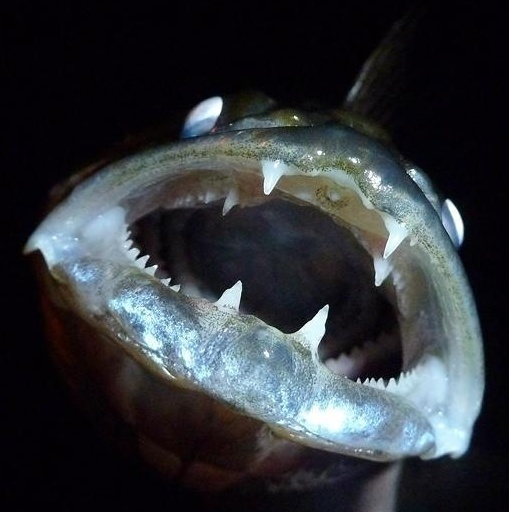Sander lucioperca: (20, 20, 489, 492)
